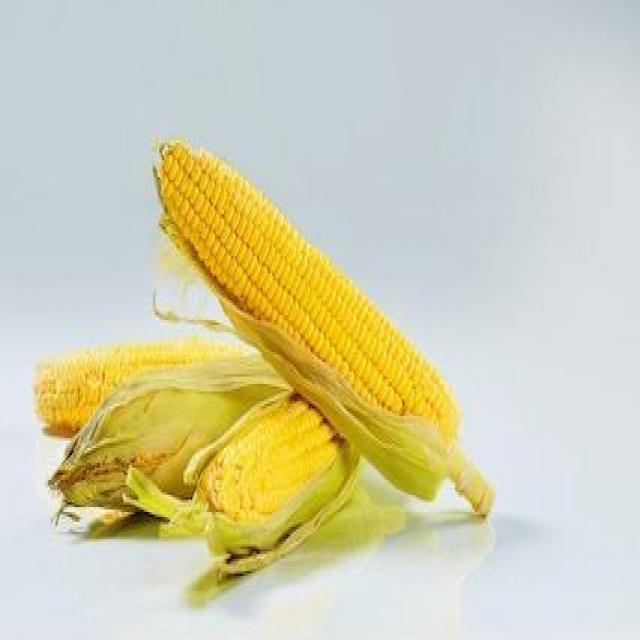corn: (297, 238, 462, 427), (158, 137, 298, 313), (216, 404, 335, 540)
